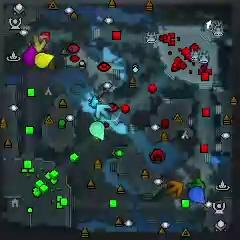p1: (189, 186, 204, 205)
p2: (89, 121, 106, 141)
p3: (23, 45, 39, 68)
p4: (35, 53, 55, 69)
x2: (28, 34, 47, 53)
x3: (95, 103, 112, 121)
x4: (188, 176, 206, 191)
x5: (167, 180, 184, 197)
